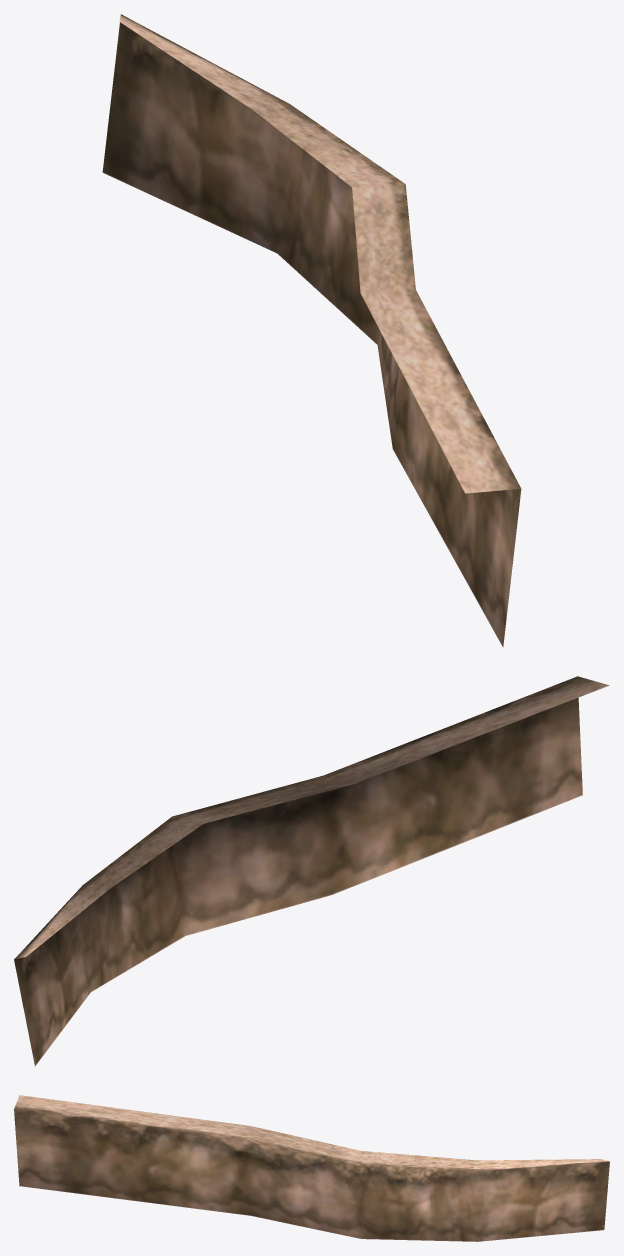
The model's file is EKH_ENTRANCE_PS_EN_EDGEGRAB03938.fbx.
The picture shows the model from 3 angles, top to bottom: view 1: azimuth 30°, elevation 25°; view 2: azimuth 150°, elevation 25°; view 3: azimuth 270°, elevation 25°; orthographic projection. The views are drawn at different scales.
Visible parts, largest first — view 1: EKH_ENTRANCE_PS_EN_EDGEGRAB03938; view 2: EKH_ENTRANCE_PS_EN_EDGEGRAB03938; view 3: EKH_ENTRANCE_PS_EN_EDGEGRAB03938.
Part boxes in pixels (box(x1,y1,x2,y2)): EKH_ENTRANCE_PS_EN_EDGEGRAB03938: box(102, 14, 521, 647); EKH_ENTRANCE_PS_EN_EDGEGRAB03938: box(14, 676, 609, 1066); EKH_ENTRANCE_PS_EN_EDGEGRAB03938: box(14, 1095, 609, 1241).
Bounding box in the file's own units: 9438 × 5226 × 34458.
Materials: 1 (1 with a texture image).
